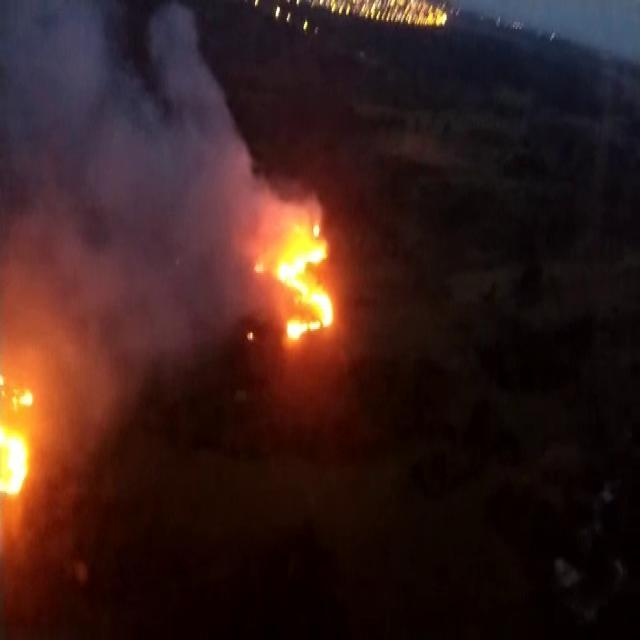Fire: (269, 216, 339, 353), (2, 378, 42, 495)
Smoke: (3, 0, 242, 353), (158, 0, 259, 205)
